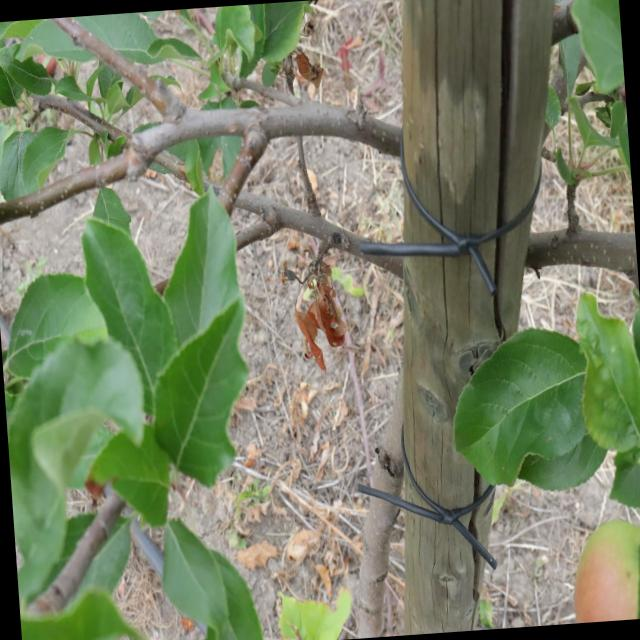-FireBlight-: (284, 255, 352, 368)
